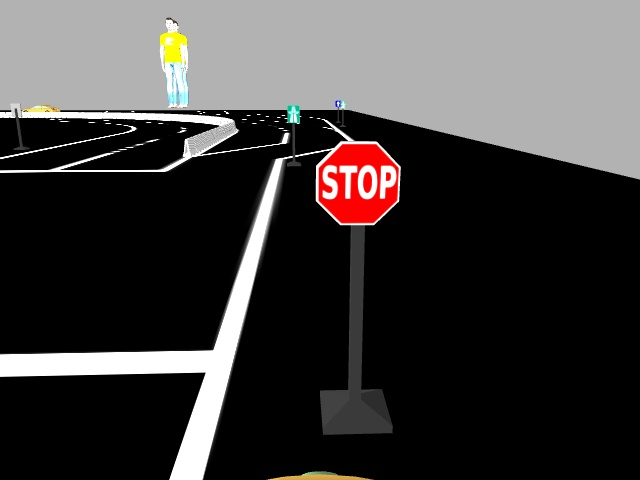Stop: (313, 140, 402, 227)
